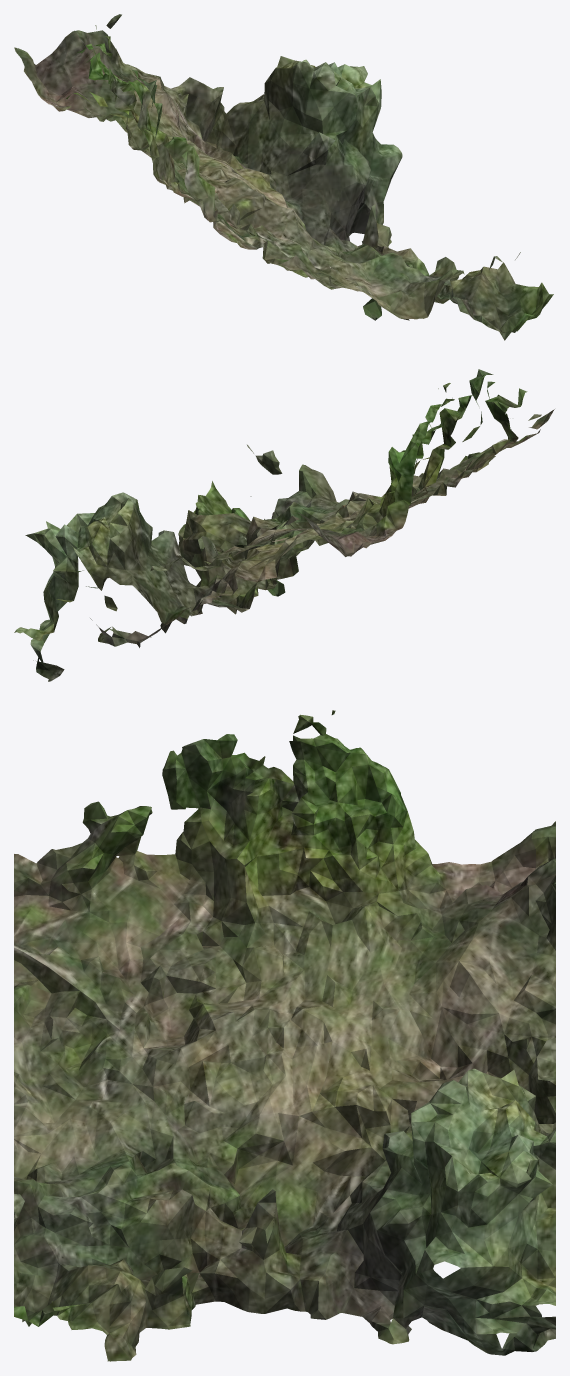
3 renders of one model, top to bottom at view 1: azimuth 30°, elevation 25°; view 2: azimuth 150°, elevation 25°; view 3: azimuth 270°, elevation 25°, orthographic. The views are drawn at different scales.
Bounding box in the file's own units: 5.9 × 5.07 × 5.9.
Materials: 4 (4 with a texture image).
